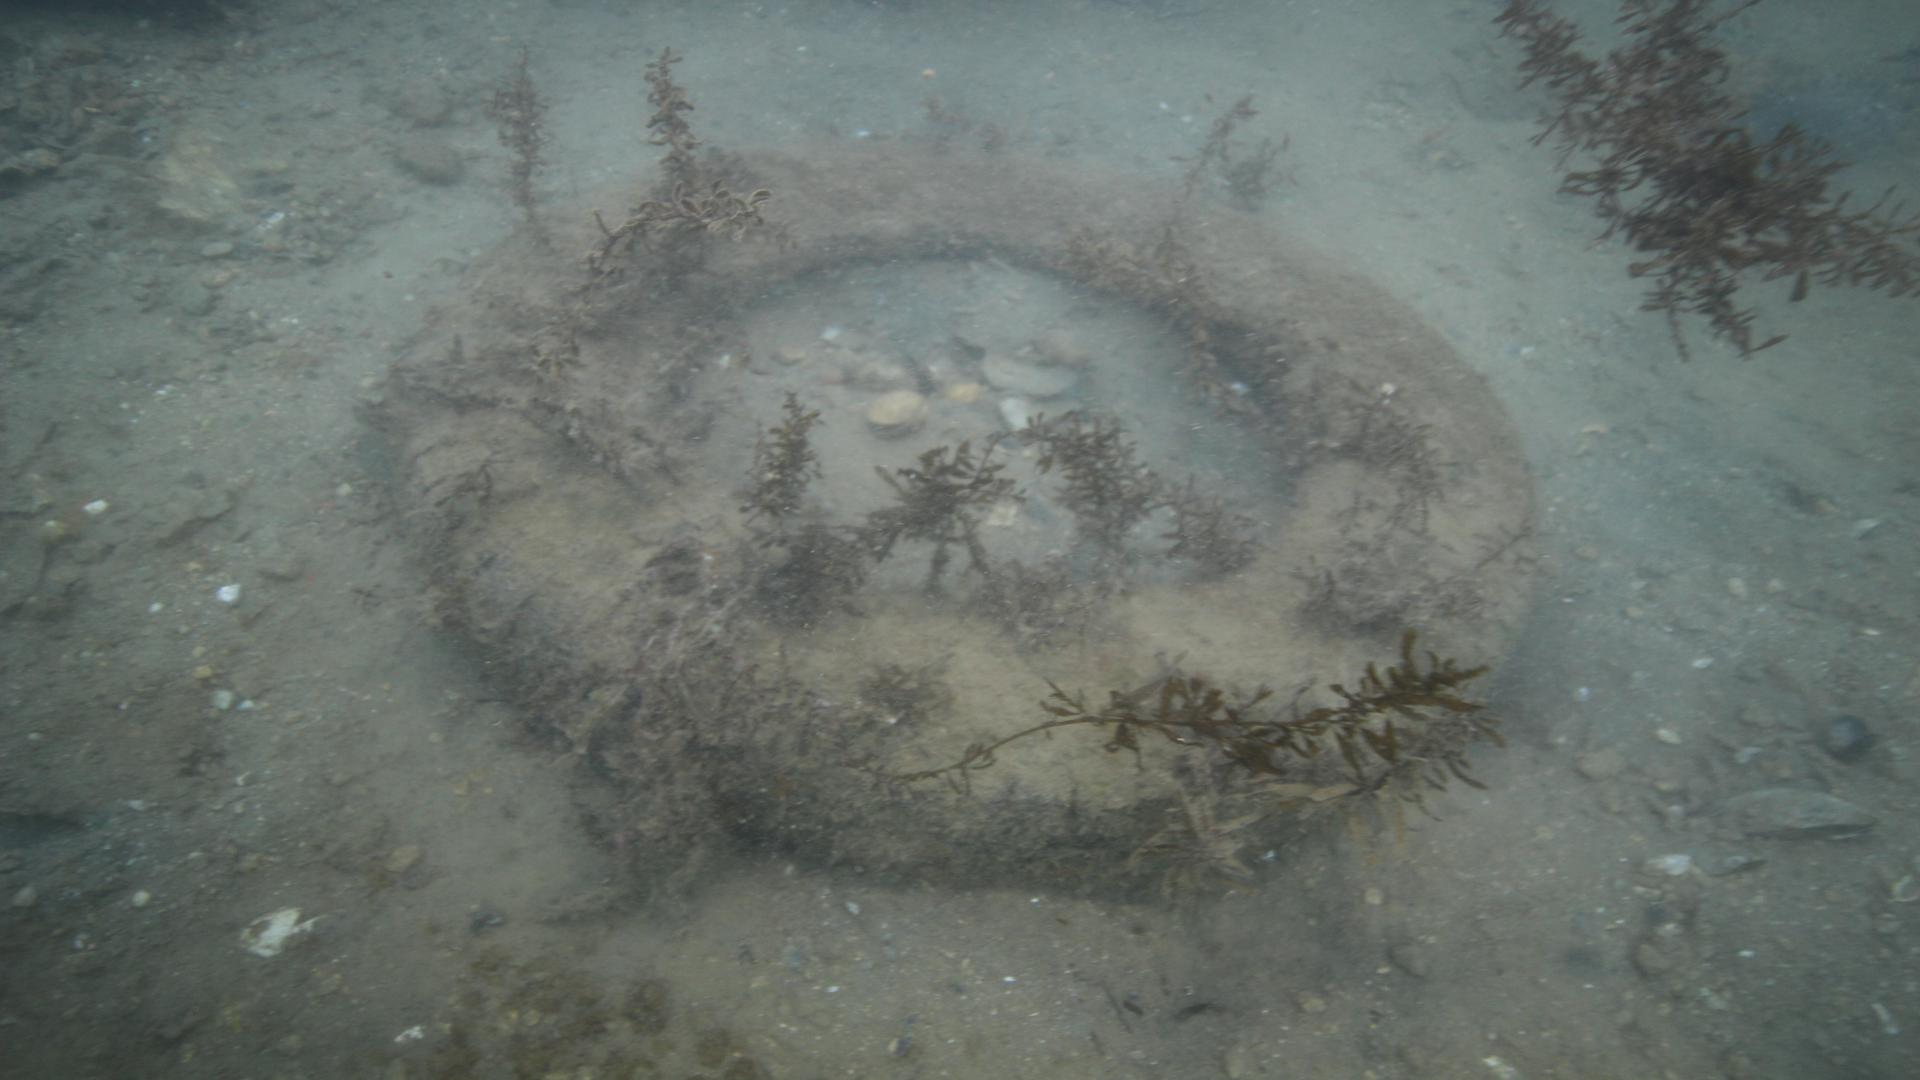tire: (388, 146, 1539, 894)
